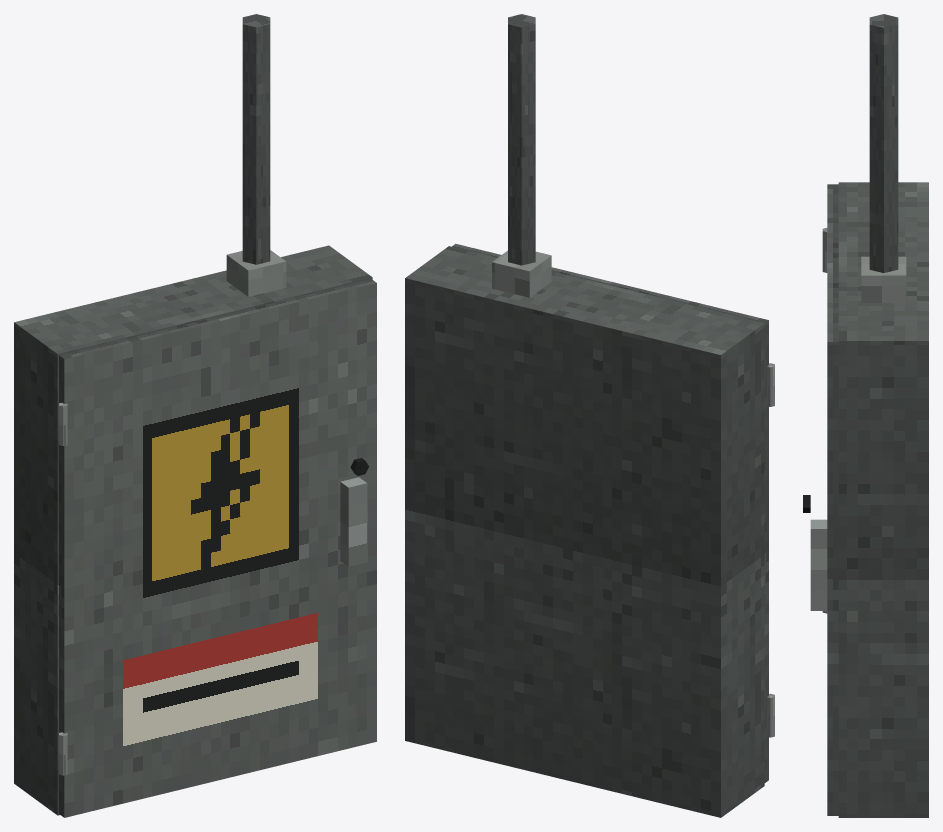
File: breaker_panel.glb
The picture shows the model from 3 angles, left to right: view 1: azimuth 30°, elevation 25°; view 2: azimuth 150°, elevation 25°; view 3: azimuth 270°, elevation 25°; orthographic projection. The views are drawn at different scales.
Parts seen in each view (by area): view 1: Door, BreakerPanel; view 2: BreakerPanel, Door; view 3: BreakerPanel, Door.
Boxes of the visible parts, box(x1,y1,x2,y2) form: Door: box(59, 279, 376, 817); BreakerPanel: box(14, 14, 372, 815); BreakerPanel: box(405, 14, 764, 817); Door: box(452, 243, 774, 782); BreakerPanel: box(838, 14, 928, 817); Door: box(803, 184, 838, 815).
Bounding box in the file's own units: 0.507 × 1.1 × 0.1675.
5 materials, 5 textured.
